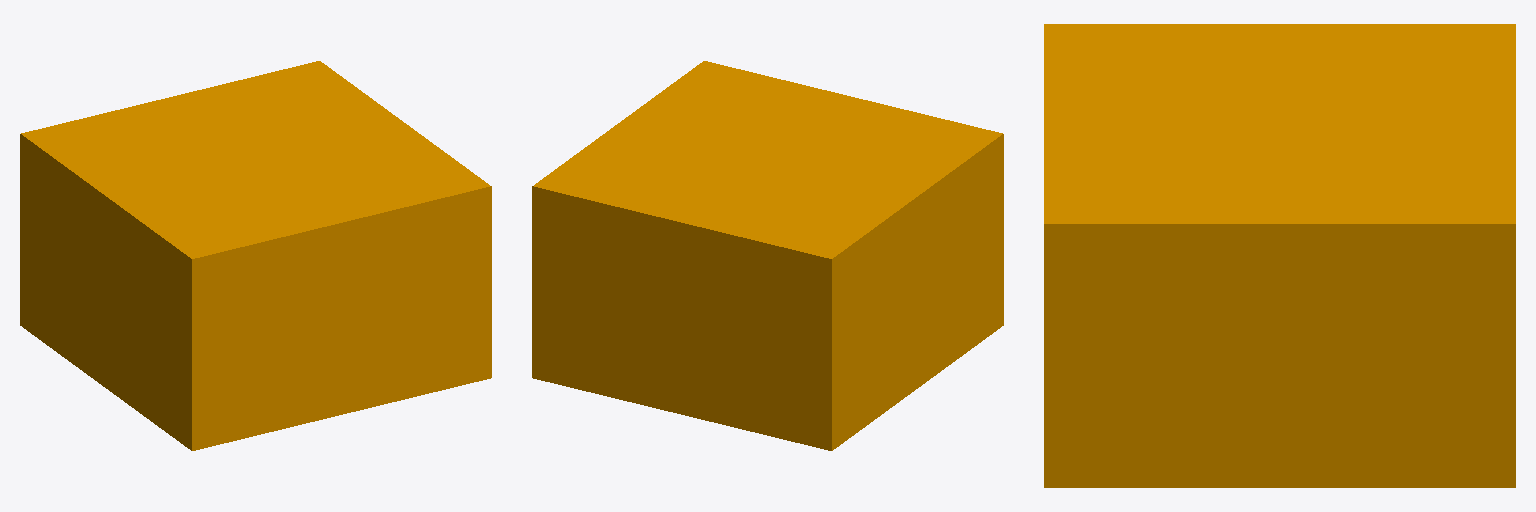
The robot description file, URDF, robot "object":
<?xml version="1.0"?>
<!-- Auto-generated by tools/gen_primitive_objects.py. kind=box dims=(0.080711, 0.080135, 0.049476) -->
<robot name="object">
  <link name="object">
    <visual>
      <origin xyz="0 0 0"/>
      <geometry>
        <box size="0.080711 0.080135 0.049476"/>
      </geometry>
    </visual>
    <collision>
      <origin xyz="0 0 0"/>
      <geometry>
        <box size="0.080711 0.080135 0.049476"/>
      </geometry>
    </collision>
    <inertial>
      <mass value="0.064000"/>
      <inertia ixx="0.00004730" ixy="0.0" ixz="0.0" iyy="0.00004780" iyz="0.0" izz="0.00006899"/>
    </inertial>
  </link>
</robot>

--- Facts derived from the render (not from the file) ---
The picture shows the robot from 3 angles, left to right: view 1: azimuth 30°, elevation 25°; view 2: azimuth 150°, elevation 25°; view 3: azimuth 270°, elevation 25°; orthographic projection.
Robot: object — 1 links, 0 joints (none); root link object; default pose: every joint at zero.
Links seen in each view (by area): view 1: object; view 2: object; view 3: object.
Link boxes in pixels (<box>): object: <box>20,61,491,450</box>; object: <box>532,61,1003,450</box>; object: <box>1044,24,1515,487</box>.
Size in the robot's own frame: 0.0807 by 0.0801 by 0.0495 metres.
Geometry: primitives only (box / cylinder / sphere), no mesh files.
